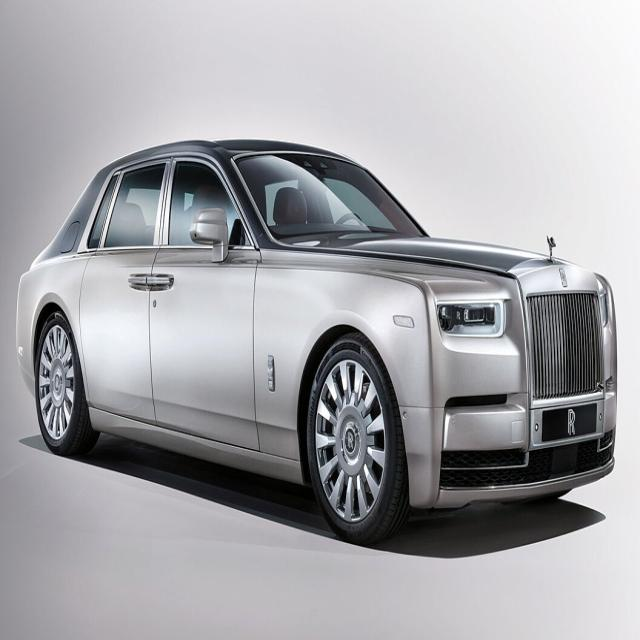Car: (20, 132, 617, 550)
